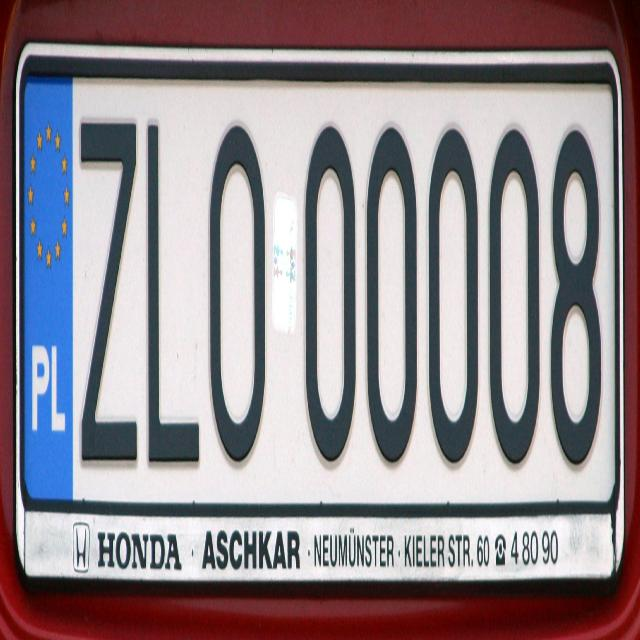pl_license_plate: (19, 66, 618, 520)
